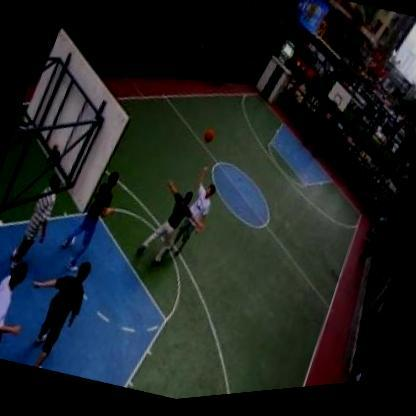basketball: (203, 129, 220, 150), (203, 131, 218, 150)
